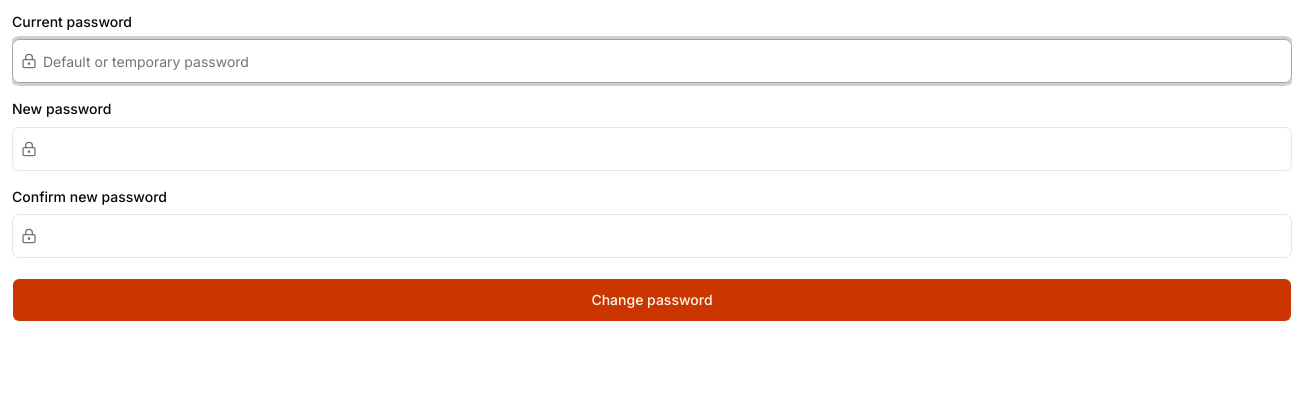
Scenario: ChangePasswordForm › keeps the form and shows the API error
Type "wrong-one-xx" into the password field labelled "Current password". click: x=664, y=61
box: x1=37 y1=45 x2=1291 y2=77
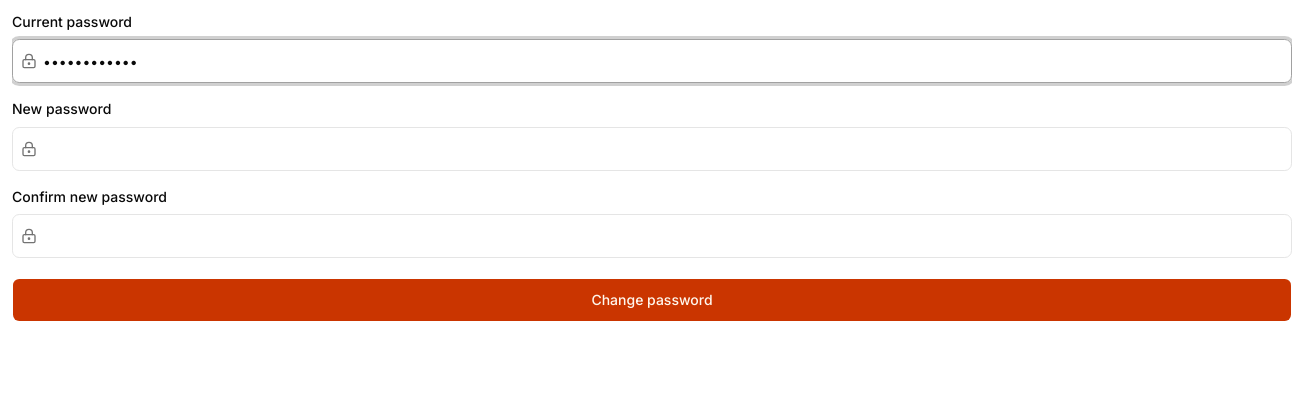
Type "a-much-longer-password" into the password field labelled "New password". click: x=664, y=148
box: x1=37 y1=132 x2=1291 y2=164
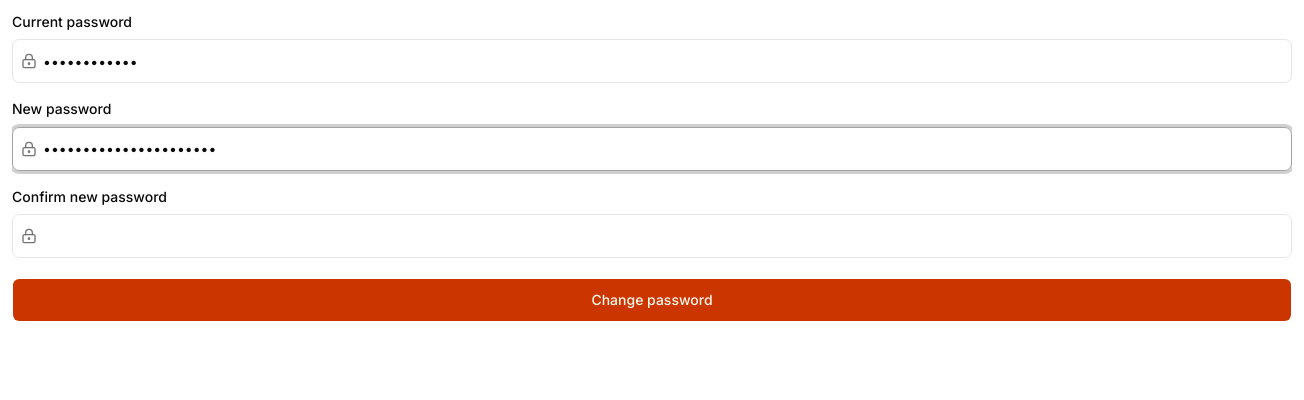
Type "a-much-longer-password" into the password field labelled "Confirm new password". click: x=664, y=236
box: x1=37 y1=220 x2=1291 y2=252
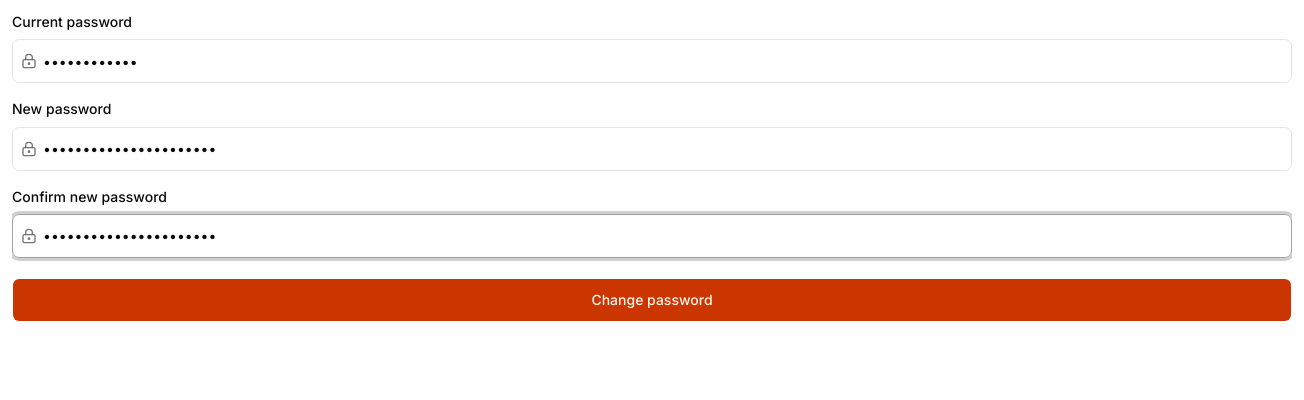
Click the button "Change password". click: x=652, y=300
box: x1=12 y1=278 x2=1292 y2=322
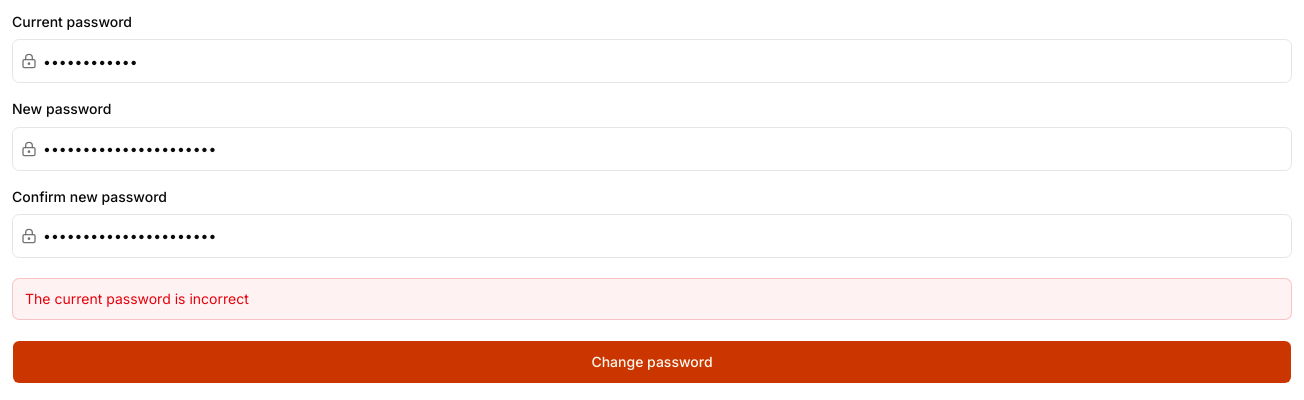
Expected: the message shows "incorrect", x1=25 y1=290 x2=249 y2=307
